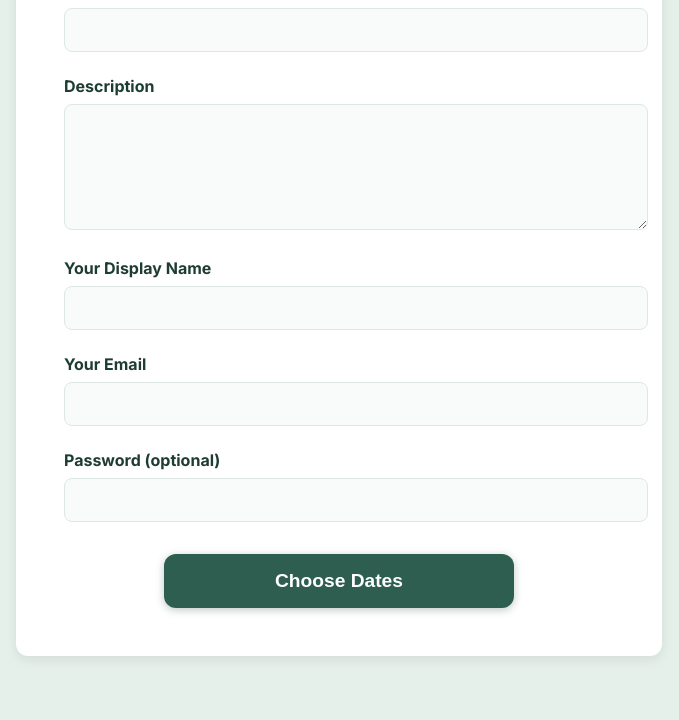
Test case: CreateEvent › Title validation › shows required error when title is missing
(page scrolled)
Step 1. Click the button "Choose Dates" → (339,580), box [164, 554, 514, 608]
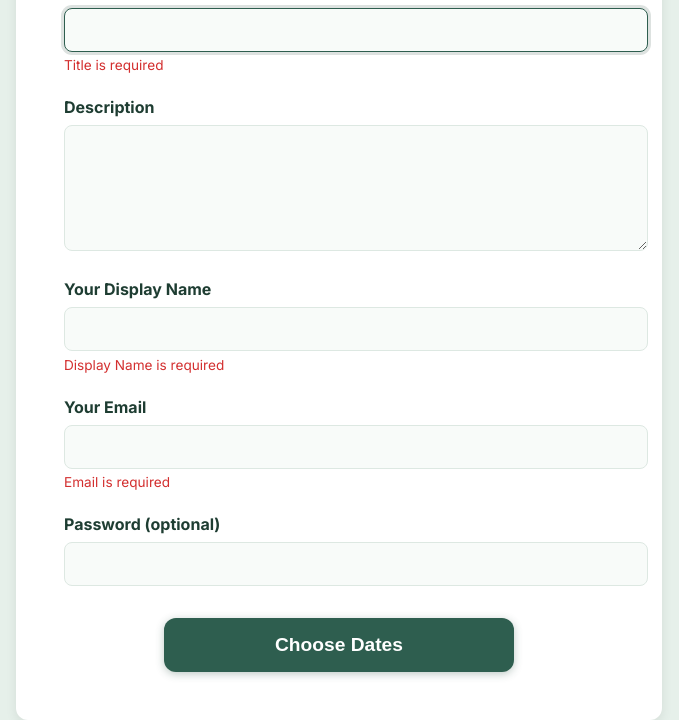
Result: the text "Title is required" is shown at [64, 57, 164, 73]
